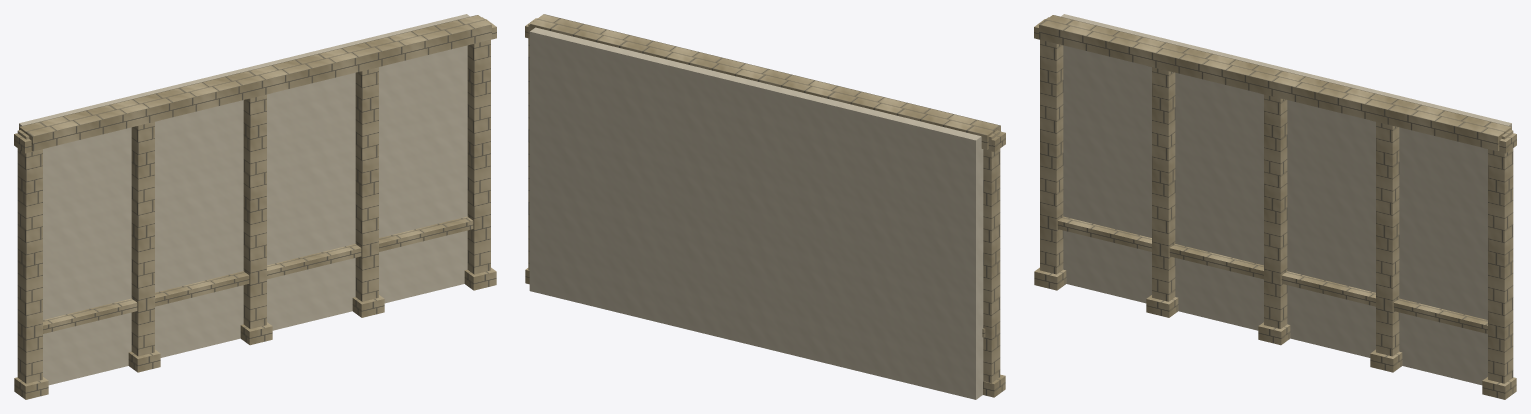
Rendered from facade-stucco-pilasters.lod1.gltf.
3 views of the same model, side by side, from view 1: azimuth 30°, elevation 25°; view 2: azimuth 150°, elevation 25°; view 3: azimuth 330°, elevation 25° (orthographic).
Parts seen in each view (by area): view 1: facade-stucco-pilasters; view 2: facade-stucco-pilasters; view 3: facade-stucco-pilasters.
Part boxes in pixels (left/top/right/bottom): facade-stucco-pilasters: left=14, top=14, right=496, bottom=399; facade-stucco-pilasters: left=525, top=14, right=1005, bottom=399; facade-stucco-pilasters: left=1034, top=14, right=1516, bottom=399.
Size of the model in its own units: 9.48 by 5.04 by 0.68.
2 materials, 2 textured.
